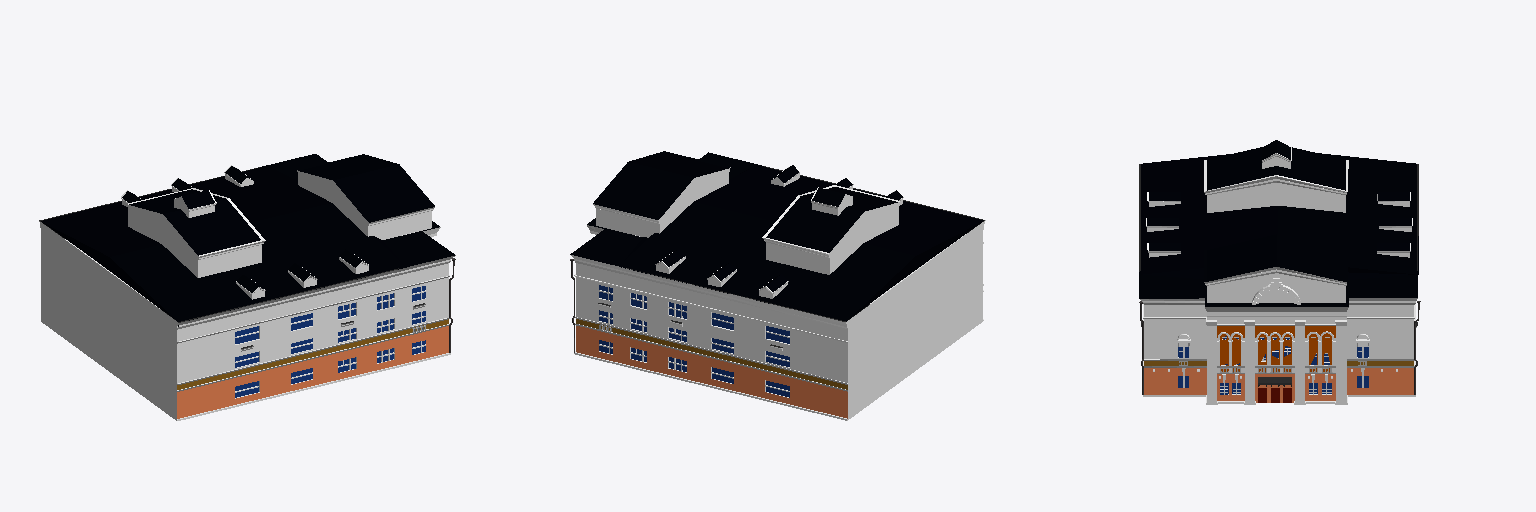
Rendered from teatr_Ostrovskogo.obj.
3 views of the same model, side by side, from view 1: azimuth 30°, elevation 25°; view 2: azimuth 150°, elevation 25°; view 3: azimuth 270°, elevation 25° (orthographic).
Parts seen in each view (by area): view 1: Cube.002_Cube.014, крыша_Plane, на_крыше_2_Cube.005, 4_миника_Cube.007, на_крыше_мини_Cube.006, 4_миника.001_Cube.008; view 2: Cube.002_Cube.014, крыша_Plane, на_крыше_2_Cube.005, 4_миника_Cube.007, на_крыше_мини_Cube.006; view 3: Cube.002_Cube.014, крыша_Plane, на_крыше_2_Cube.005, 4_миника_Cube.007, 4_миника.001_Cube.008, на_крыше_мини_Cube.006.
Part boxes in pixels (x1,y1,x2,y2): Cube.002_Cube.014: (39, 154, 455, 420); крыша_Plane: (41, 166, 406, 326); на_крыше_2_Cube.005: (127, 188, 265, 277); 4_миника_Cube.007: (121, 165, 368, 299); на_крыше_мини_Cube.006: (174, 190, 216, 217); 4_миника.001_Cube.008: (171, 178, 317, 287); Cube.002_Cube.014: (570, 151, 985, 420); крыша_Plane: (620, 165, 983, 321); на_крыше_2_Cube.005: (762, 185, 900, 274); 4_миника_Cube.007: (655, 165, 903, 298); на_крыше_мини_Cube.006: (811, 187, 852, 215); Cube.002_Cube.014: (1139, 164, 1420, 404); крыша_Plane: (1141, 153, 1418, 279); на_крыше_2_Cube.005: (1204, 147, 1348, 212); 4_миника_Cube.007: (1147, 192, 1410, 257); 4_миника.001_Cube.008: (1146, 218, 1412, 231); на_крыше_мини_Cube.006: (1262, 140, 1291, 168).
Size of the model in its own units: 318 by 163 by 263.